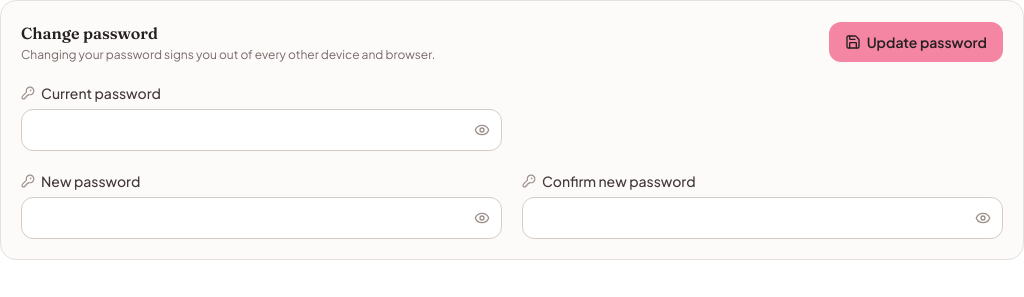
ChangePasswordForm › rejects a confirmation that does not match the new password
Step 1. Type "oldpass1" into the password field labelled "Current password" → (262, 130), box x1=21 y1=109 x2=502 y2=151
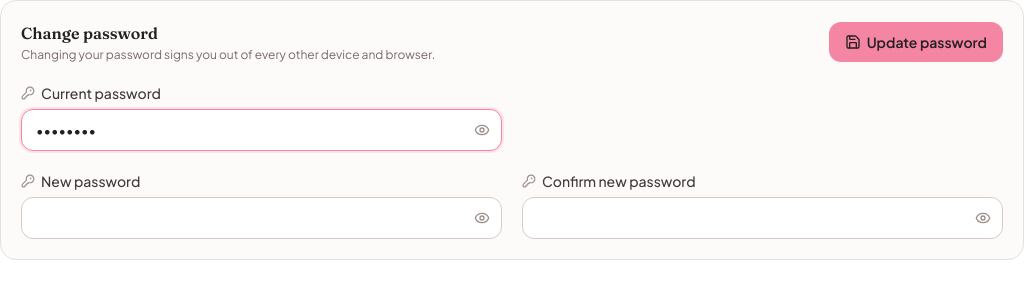
Step 2. Type "newpass1" into the password field labelled "New password" → (262, 218), box x1=21 y1=197 x2=502 y2=239
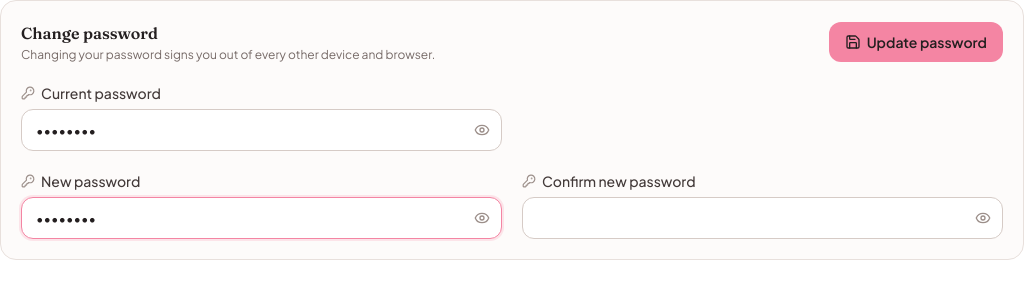
Step 3. Type "newpass2" into the password field labelled "Confirm new password" → (762, 218), box x1=522 y1=197 x2=1003 y2=239
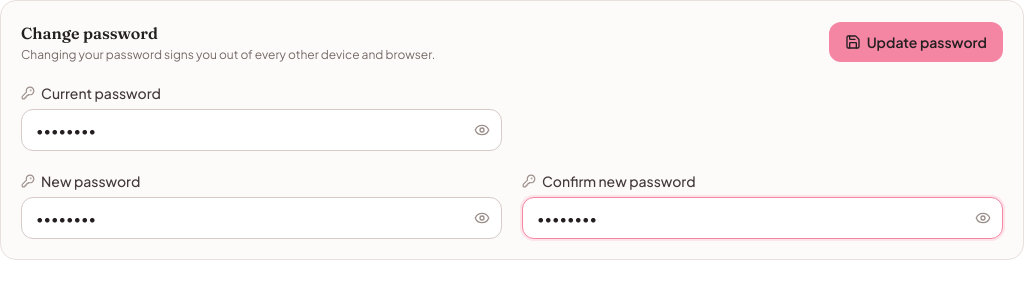
Step 4. Click the button "Update password" → (916, 42), box x1=829 y1=22 x2=1003 y2=62
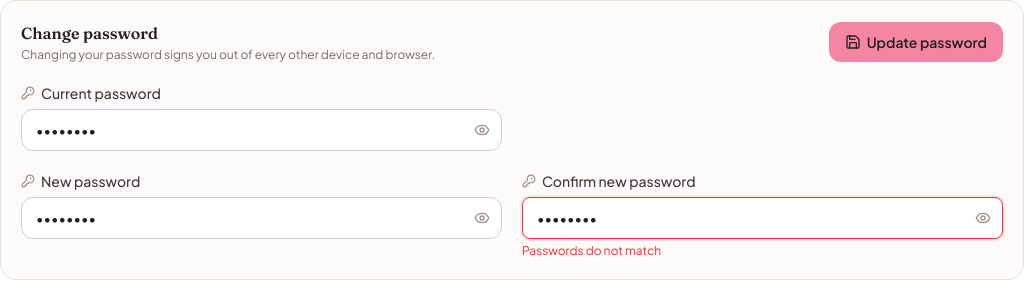
Expected: the text "Passwords do not match" is shown, x1=522 y1=243 x2=661 y2=258
